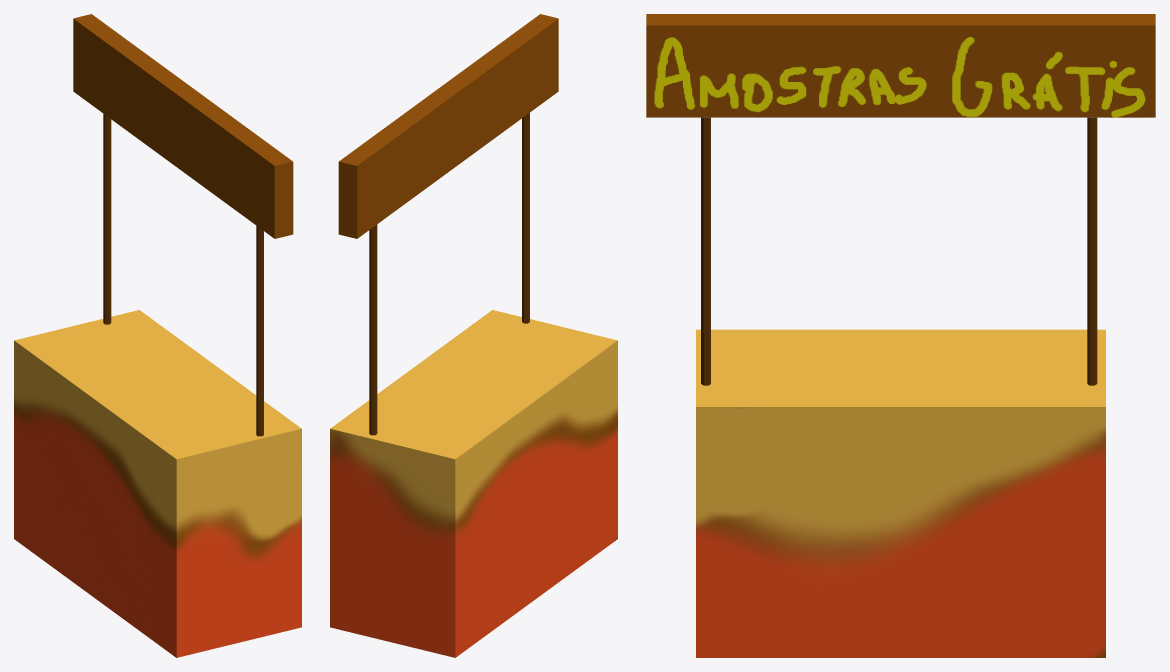
The model's file is bancada de amostra gratis.fbx.
3 views of the same model, side by side, from view 1: azimuth 30°, elevation 25°; view 2: azimuth 150°, elevation 25°; view 3: azimuth 270°, elevation 25° (orthographic). The views are drawn at different scales.
Visible parts, largest first — view 1: Cube; view 2: Cube; view 3: Cube.
Boxes of the visible parts, x1=… form: Cube: x1=14, y1=14, x2=301, y2=657; Cube: x1=330, y1=14, x2=617, y2=657; Cube: x1=646, y1=14, x2=1155, y2=657.
Bounding box in the file's own units: 359 × 1335 × 1001.
